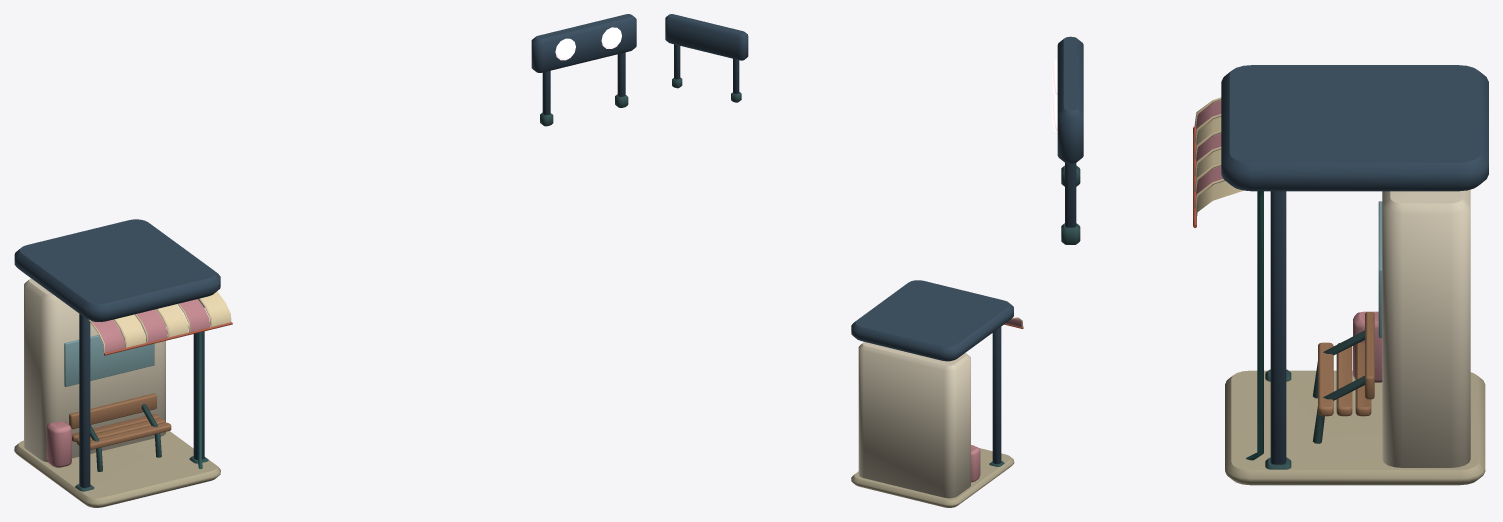
The model's file is luxury_motel_4.glb.
The picture shows the model from 3 angles, left to right: view 1: azimuth 30°, elevation 25°; view 2: azimuth 150°, elevation 25°; view 3: azimuth 270°, elevation 25°; orthographic projection. The views are drawn at different scales.
Parts seen in each view (by area): view 1: LuxuryMotel4; view 2: LuxuryMotel4; view 3: LuxuryMotel4.
Boxes of the visible parts, left/top/right/bottom form: LuxuryMotel4: left=14, top=14, right=636, bottom=507; LuxuryMotel4: left=665, top=14, right=1023, bottom=507; LuxuryMotel4: left=1052, top=36, right=1488, bottom=485.
Size of the model in its own units: 8.6 by 6.85 by 4.16.
